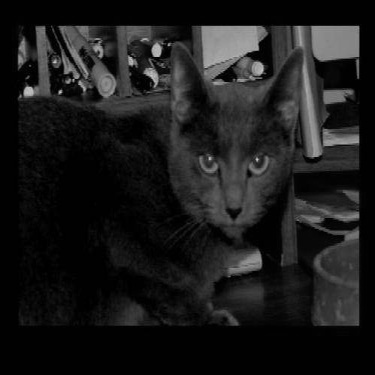cat: (1, 49, 310, 326)
